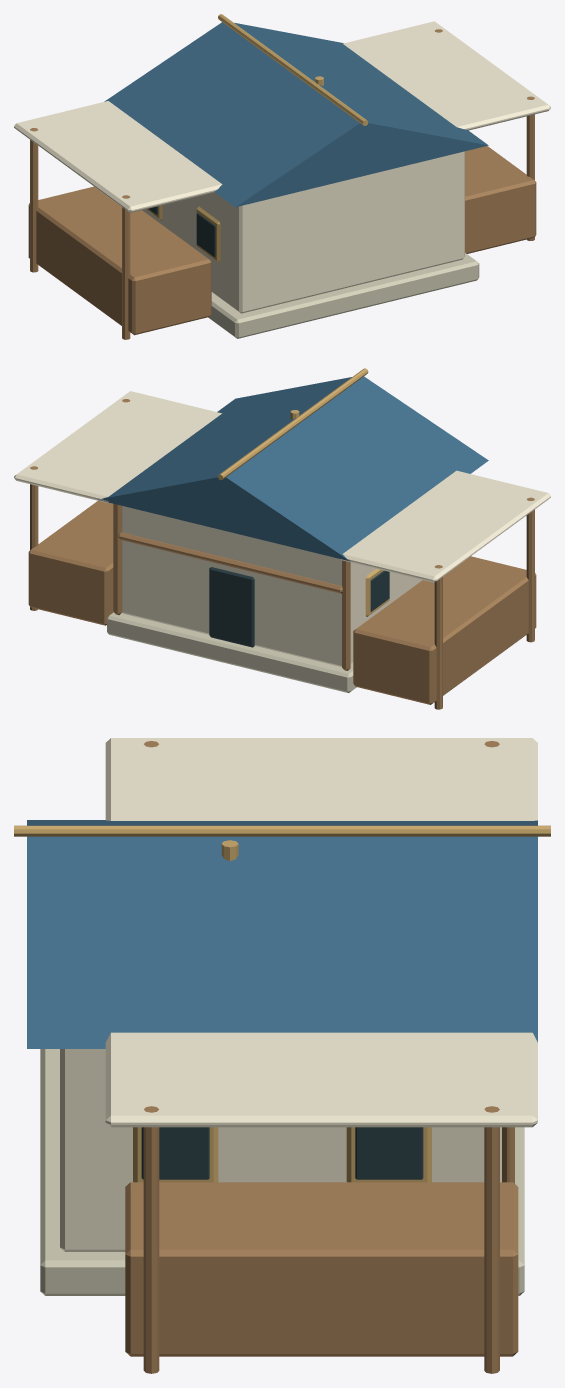
File: level_04.glb
3 views of the same model, one above another, from view 1: azimuth 30°, elevation 25°; view 2: azimuth 150°, elevation 25°; view 3: azimuth 270°, elevation 25° (orthographic). The views are drawn at different scales.
Parts seen in each view (by area): view 1: market — level 04; view 2: market — level 04; view 3: market — level 04.
Part boxes in pixels (box(x1,y1,x2,y2)): market — level 04: box(14, 14, 550, 339); market — level 04: box(14, 368, 550, 709); market — level 04: box(14, 738, 550, 1373).
Bounding box in the file's own units: 6.9 × 3.05 × 4.1.
